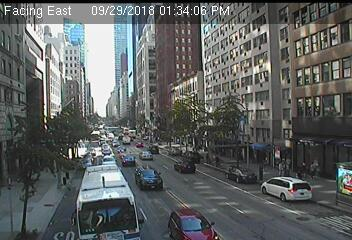car: (72, 166, 142, 240), (169, 208, 219, 240), (261, 177, 312, 202), (135, 166, 164, 190), (225, 167, 256, 184), (173, 160, 197, 174), (182, 151, 201, 162), (101, 156, 117, 167), (122, 155, 137, 166), (167, 147, 182, 157), (139, 151, 153, 161), (80, 159, 92, 169), (82, 153, 93, 162), (102, 148, 112, 155)
